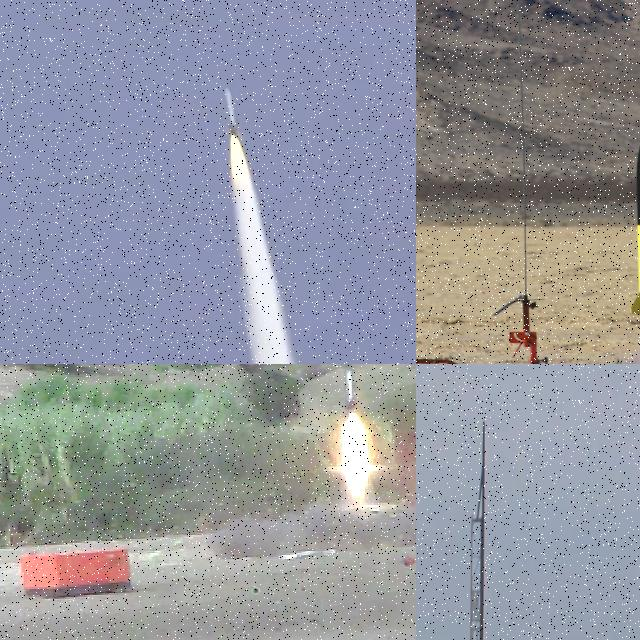Rocket: (630, 141, 640, 318), (225, 86, 243, 140), (341, 364, 355, 411)
